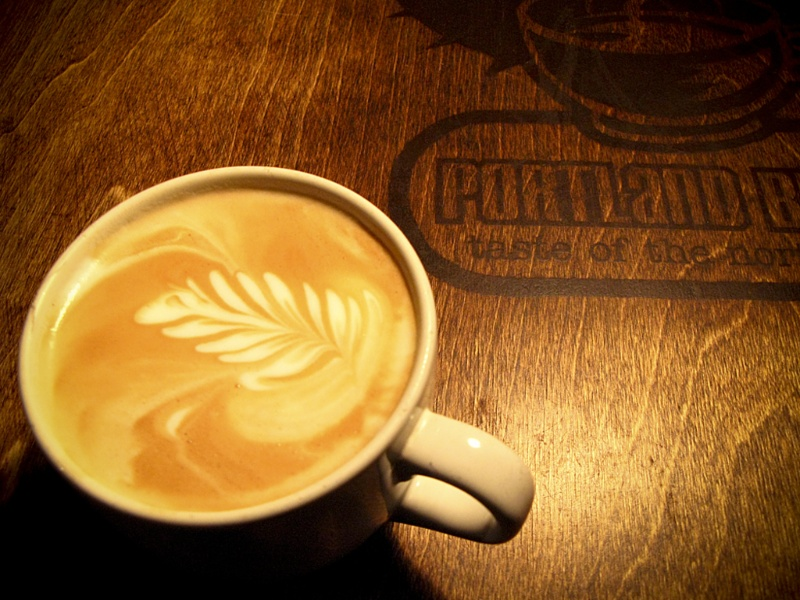cup: (13, 161, 531, 571)
